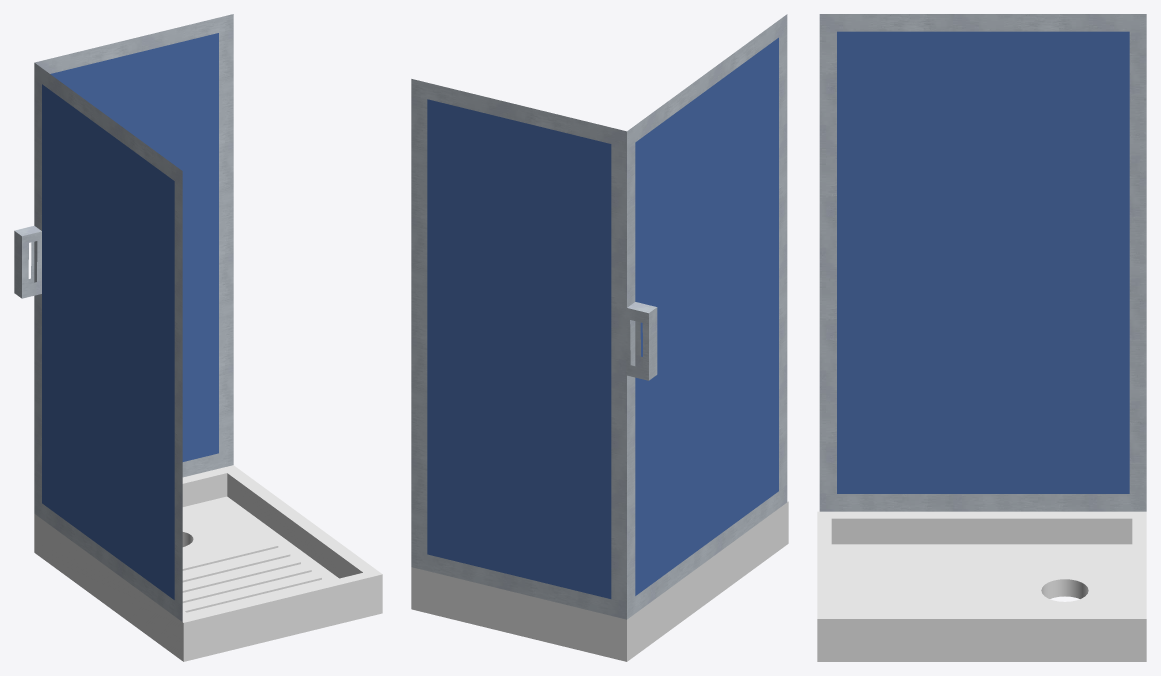
Rendered from shower.dae.
3 renders of one model, left to right at view 1: azimuth 30°, elevation 25°; view 2: azimuth 150°, elevation 25°; view 3: azimuth 270°, elevation 25°, orthographic. The views are drawn at different scales.
Parts seen in each view (by area): view 1: SketchUp (×10); view 2: SketchUp (×4); view 3: SketchUp (×10).
Boxes of the visible parts, left/top/right/bottom form: SketchUp (×10): left=14, top=14, right=382, bottom=661; SketchUp (×4): left=411, top=14, right=788, bottom=661; SketchUp (×10): left=817, top=14, right=1146, bottom=661.
Size of the model in its own units: 111 by 131 by 238.
Materials: 3 (1 with a texture image).
